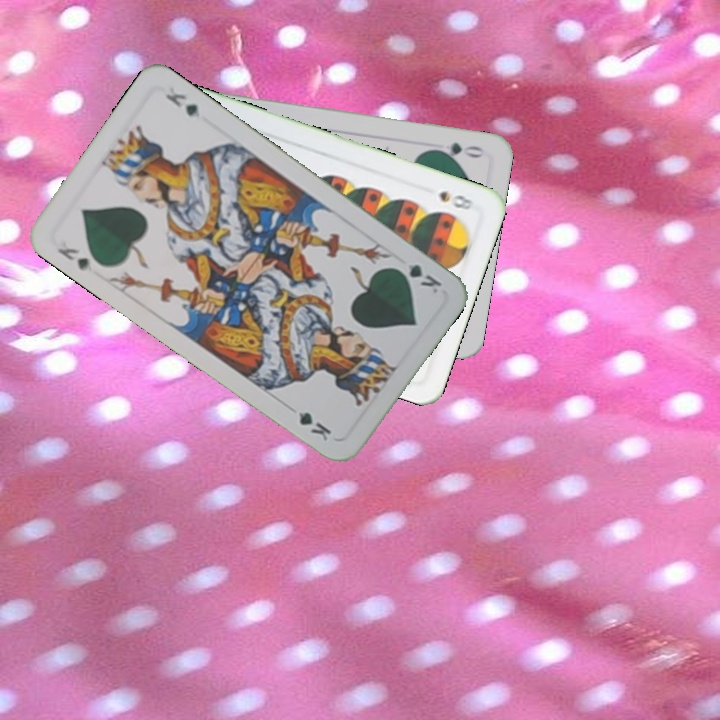GK: (389, 258, 445, 296), (53, 243, 97, 274)
GO: (428, 138, 486, 162)
S8: (435, 186, 476, 213)
